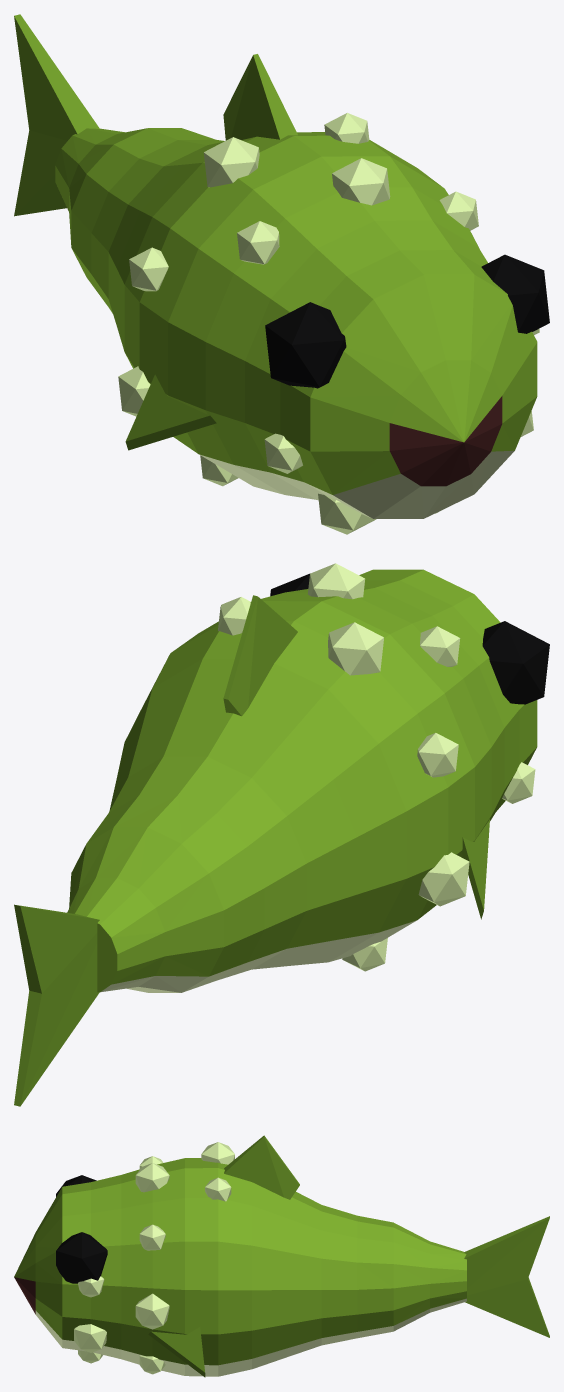
File: FoeSplitter.obj
3 views of the same model, one above another, from view 1: azimuth 30°, elevation 25°; view 2: azimuth 150°, elevation 25°; view 3: azimuth 270°, elevation 25° (orthographic). The views are drawn at different scales.
Visible parts, largest first — view 1: FoeSplitter; view 2: FoeSplitter; view 3: FoeSplitter.
Part boxes in pixels (x1,y1,x2,y2): FoeSplitter: (14,14,549,534); FoeSplitter: (14,563,549,1106); FoeSplitter: (14,1135,549,1377).
Size of the model in its own units: 0.4491 by 0.4627 by 0.97.
